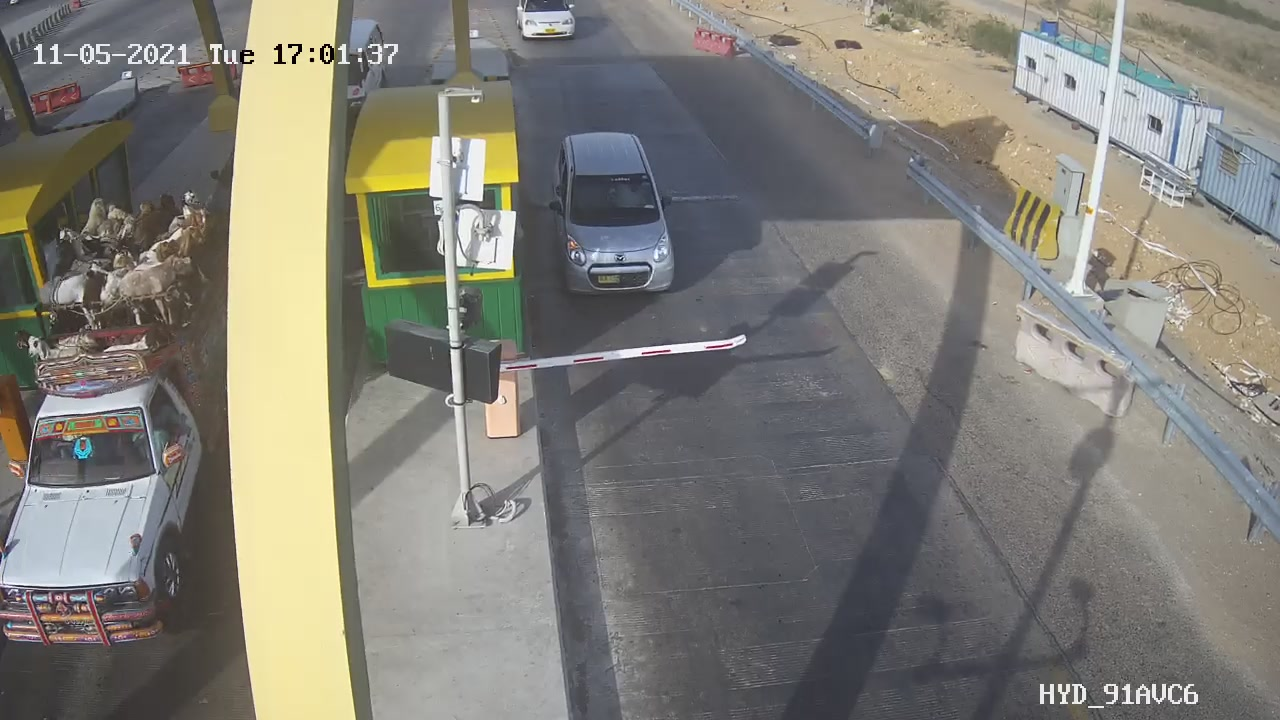F1: (539, 113, 698, 316)
